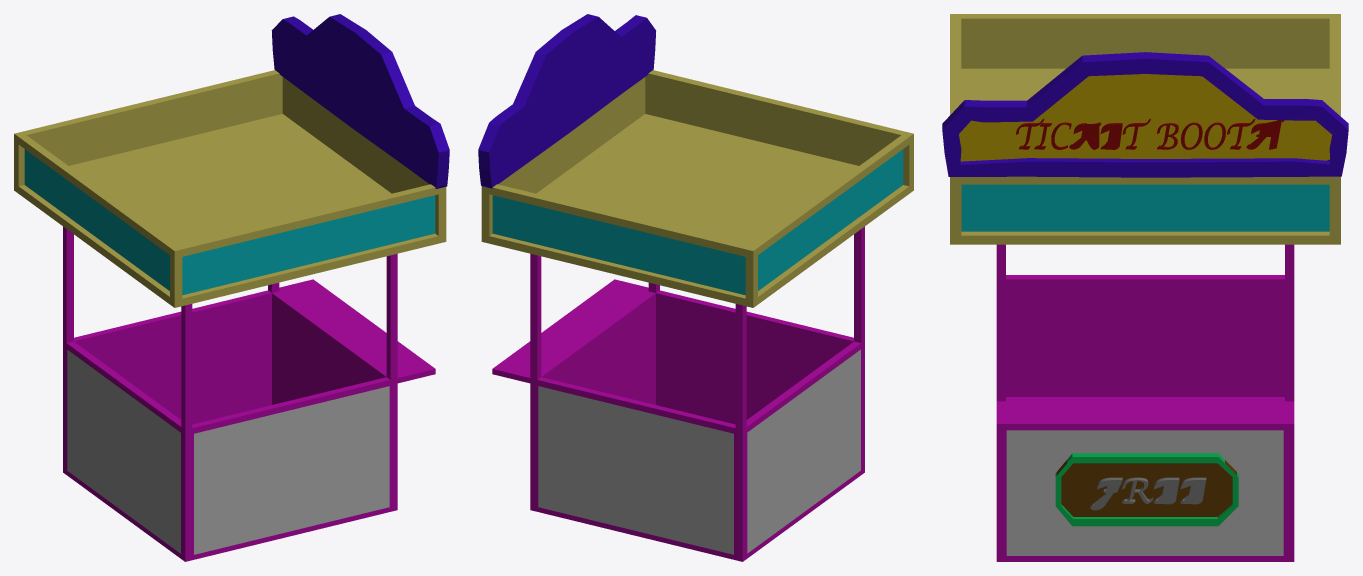
File: 5_fifth_booth.fbx
3 views of the same model, side by side, from view 1: azimuth 30°, elevation 25°; view 2: azimuth 150°, elevation 25°; view 3: azimuth 270°, elevation 25° (orthographic). The views are drawn at different scales.
Visible parts, largest first — view 1: polySurface143; view 2: polySurface143; view 3: polySurface143.
Part boxes in pixels (x1,y1,x2,y2): polySurface143: [14, 14, 449, 561]; polySurface143: [478, 14, 913, 561]; polySurface143: [942, 14, 1348, 561].
Bounding box in the file's own units: 3.64 × 5.31 × 3.76.
